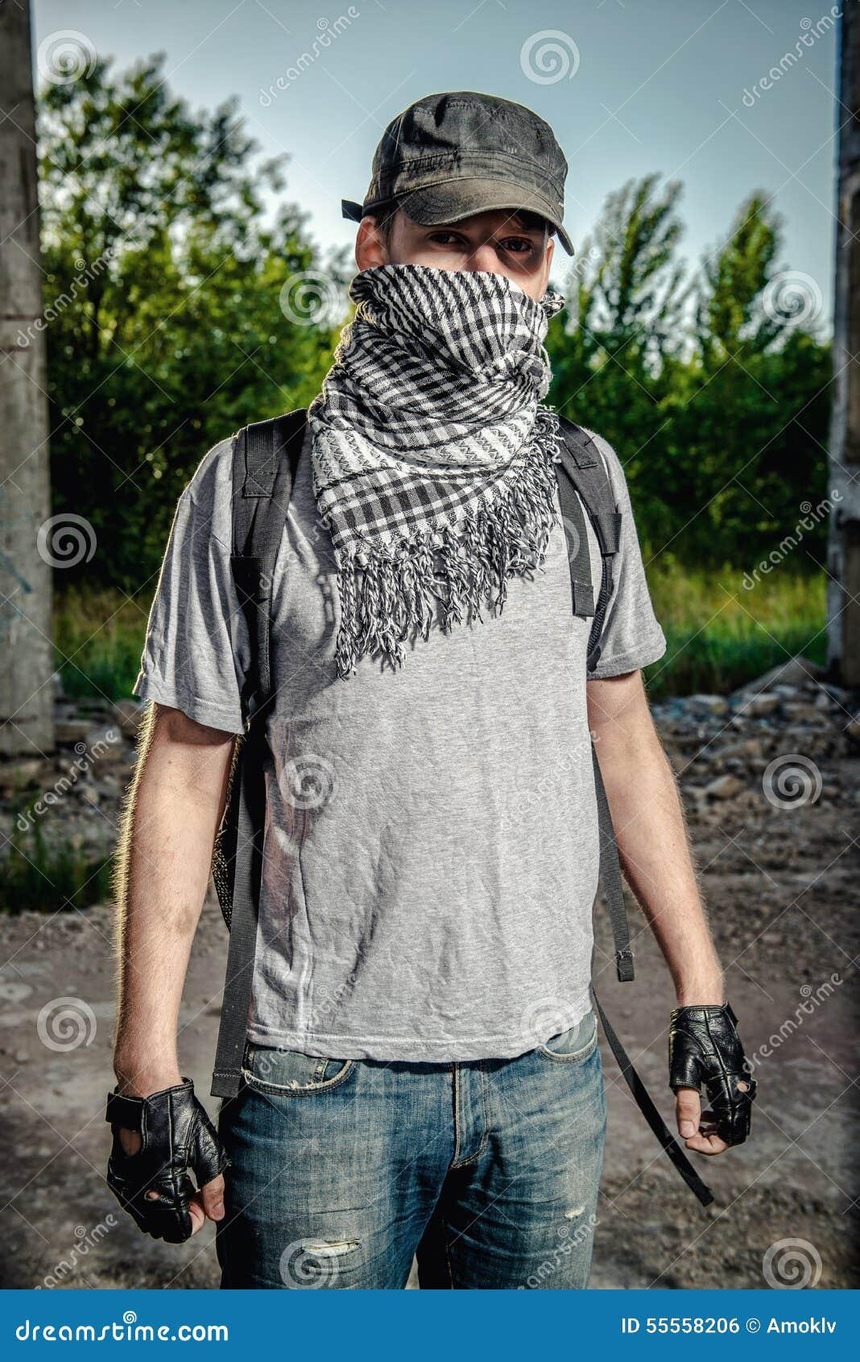cap: (346, 90, 608, 252)
scarf-kerchief: (335, 268, 560, 490)
